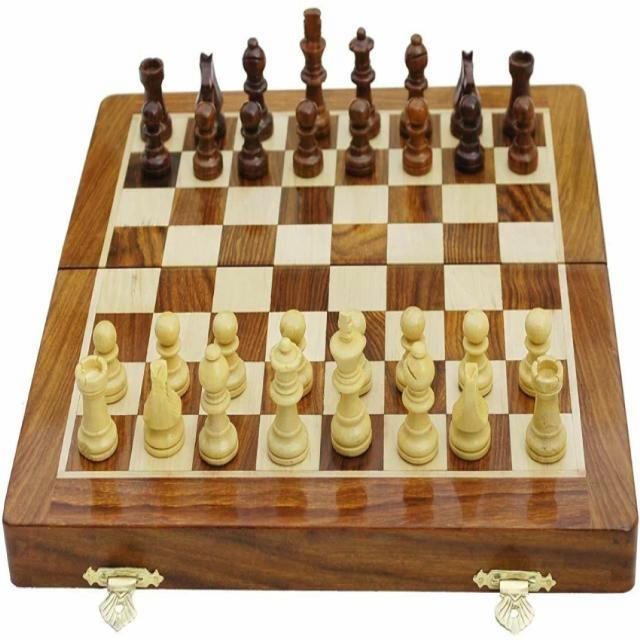chess-table-corners: (567, 449, 601, 494), (51, 450, 78, 488), (537, 98, 555, 124), (124, 102, 141, 128)
